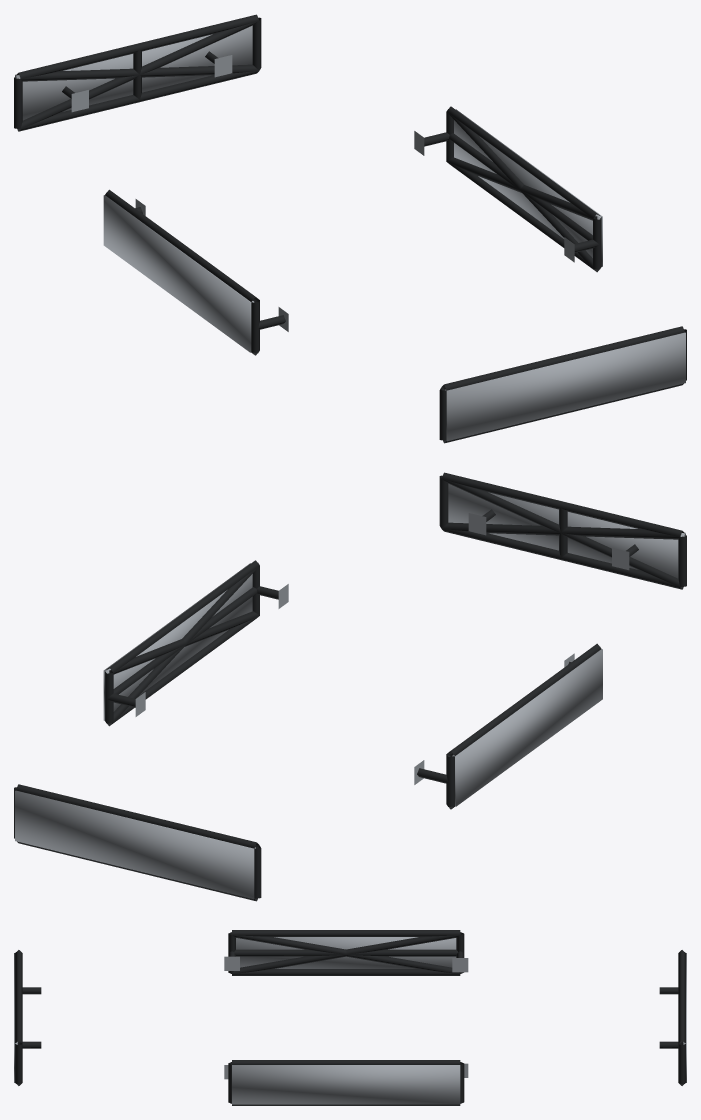
File: corsalto_malva_protecao.glb
3 renders of one model, top to bottom at view 1: azimuth 30°, elevation 25°; view 2: azimuth 150°, elevation 25°; view 3: azimuth 270°, elevation 25°, orthographic. The views are drawn at different scales.
Parts seen in each view (by area): view 1: Protection_front_Level3_Details, Protection_left_Level3_Details, Protection_rear_Level1_Details, Protection_rear_Level3_Details, Protection_right_Level1_Details, Protection_rear_Level2_Details, Protection_right_Level2_Details, Protection_right_Level3_Details, Protection_front_Level1_Details, Protection_left_Level1_Details; view 2: Protection_rear_Level3_Details, Protection_left_Level3_Details, Protection_front_Level1_Details, Protection_front_Level3_Details, Protection_right_Level1_Details, Protection_front_Level2_Details, Protection_right_Level2_Details, Protection_right_Level3_Details, Protection_rear_Level1_Details, Protection_left_Level1_Details; view 3: Protection_right_Level3_Details, Protection_left_Level2_Details, Protection_left_Level1_Details, Protection_left_Level3_Details, Protection_right_Level1_Details, Protection_rear_Level1_Details, Protection_front_Level1_Details.
Boxes of the visible parts, x1=… form: Protection_front_Level3_Details: x1=445, y1=332, x2=685, y2=441; Protection_left_Level3_Details: x1=103, y1=195, x2=254, y2=352; Protection_rear_Level1_Details: x1=14, y1=14, x2=261, y2=131; Protection_rear_Level3_Details: x1=15, y1=25, x2=252, y2=120; Protection_right_Level1_Details: x1=414, y1=106, x2=601, y2=272; Protection_rear_Level2_Details: x1=16, y1=21, x2=258, y2=130; Protection_right_Level2_Details: x1=446, y1=112, x2=600, y2=271; Protection_right_Level3_Details: x1=454, y1=109, x2=602, y2=266; Protection_front_Level1_Details: x1=439, y1=326, x2=686, y2=443; Protection_left_Level1_Details: x1=105, y1=189, x2=288, y2=355; Protection_rear_Level3_Details: x1=15, y1=790, x2=255, y2=899; Protection_left_Level3_Details: x1=452, y1=649, x2=602, y2=806; Protection_front_Level1_Details: x1=439, y1=472, x2=686, y2=589; Protection_front_Level3_Details: x1=448, y1=483, x2=685, y2=578; Protection_right_Level1_Details: x1=105, y1=560, x2=288, y2=726; Protection_front_Level2_Details: x1=442, y1=479, x2=684, y2=588; Protection_right_Level2_Details: x1=105, y1=566, x2=259, y2=725; Protection_right_Level3_Details: x1=103, y1=563, x2=252, y2=720; Protection_rear_Level1_Details: x1=14, y1=784, x2=261, y2=901; Protection_left_Level1_Details: x1=414, y1=643, x2=601, y2=809; Protection_right_Level3_Details: x1=232, y1=1065, x2=460, y2=1104; Protection_left_Level2_Details: x1=231, y1=933, x2=460, y2=974; Protection_left_Level1_Details: x1=224, y1=930, x2=468, y2=975; Protection_left_Level3_Details: x1=236, y1=937, x2=456, y2=968; Protection_right_Level1_Details: x1=224, y1=1060, x2=468, y2=1105; Protection_rear_Level1_Details: x1=659, y1=950, x2=685, y2=1085; Protection_front_Level1_Details: x1=15, y1=950, x2=41, y2=1085.
Bounding box in the file's own units: 2.21 × 0.354 × 4.69.
1 material, 1 textured.
